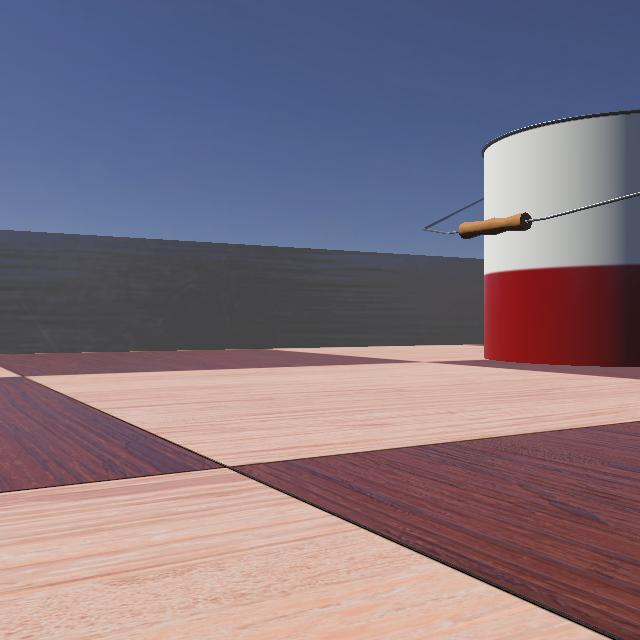paint-bucket: (411, 84, 639, 376)
